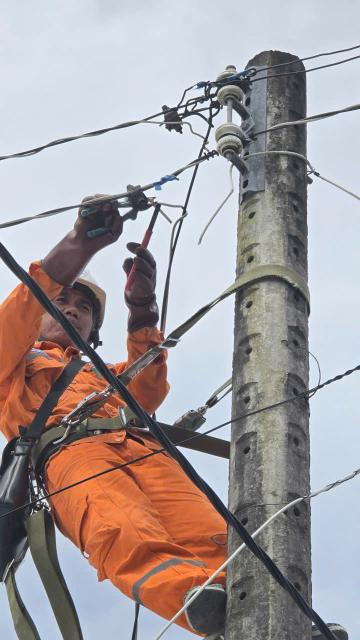gloves: (28, 188, 128, 277), (128, 243, 169, 335)
harness: (0, 400, 210, 456)
helmet: (36, 262, 118, 327)
shoes: (172, 580, 242, 640)
